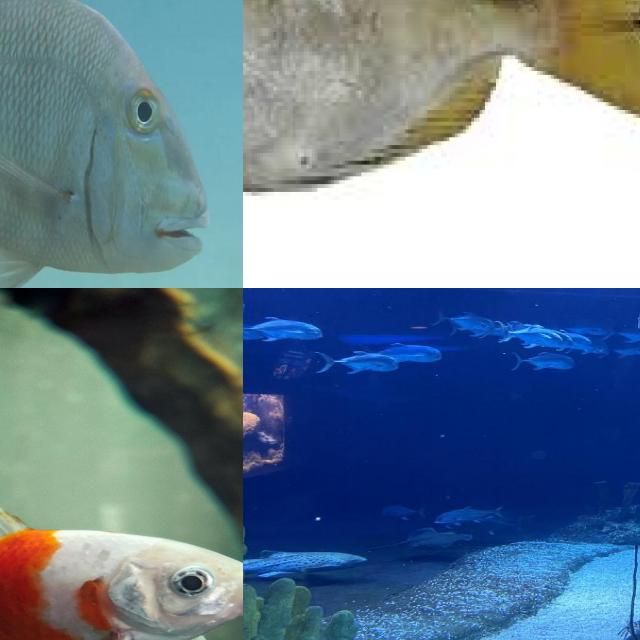fish: (0, 288, 204, 640), (0, 0, 243, 288), (310, 172, 460, 270)
